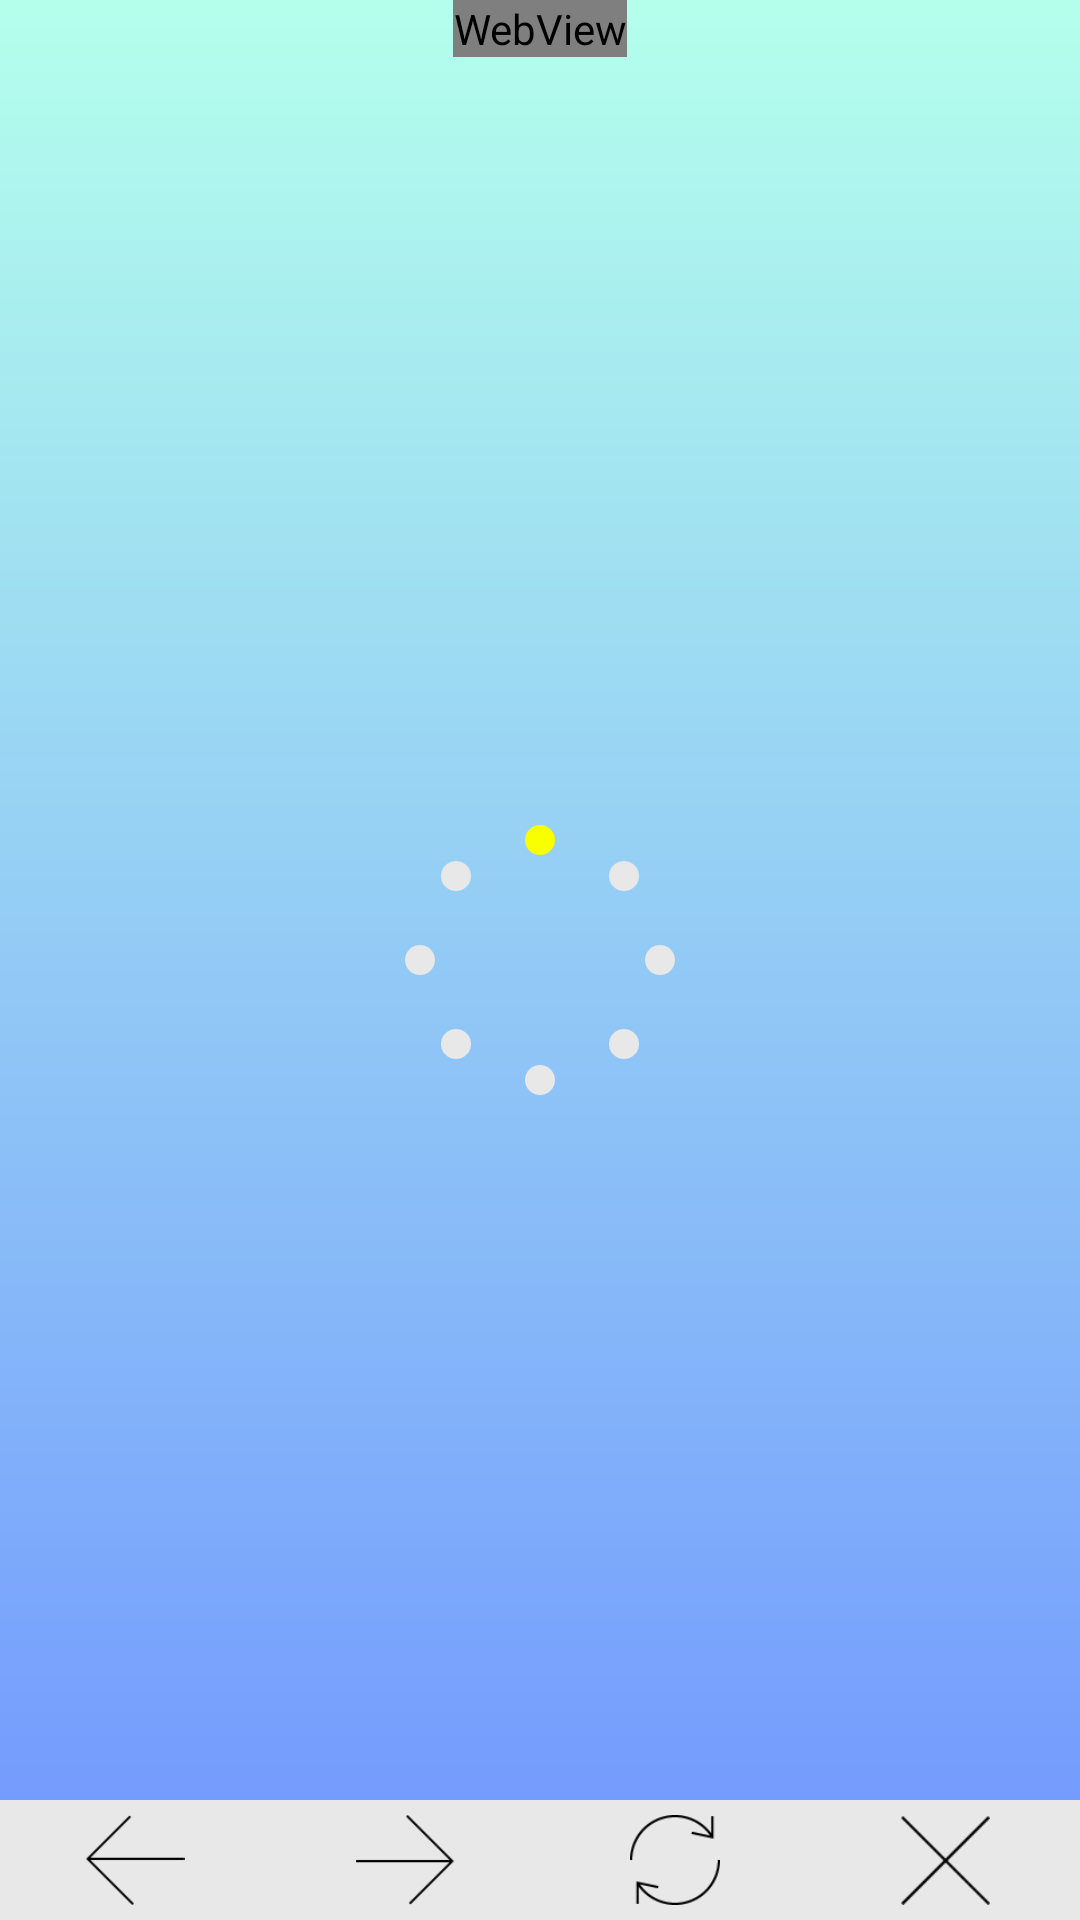

Point at icon controls on the screen. Image size 1080px x 1920px, points as (x,y).
close page: (945,1860)
refresh page: (675,1860)
